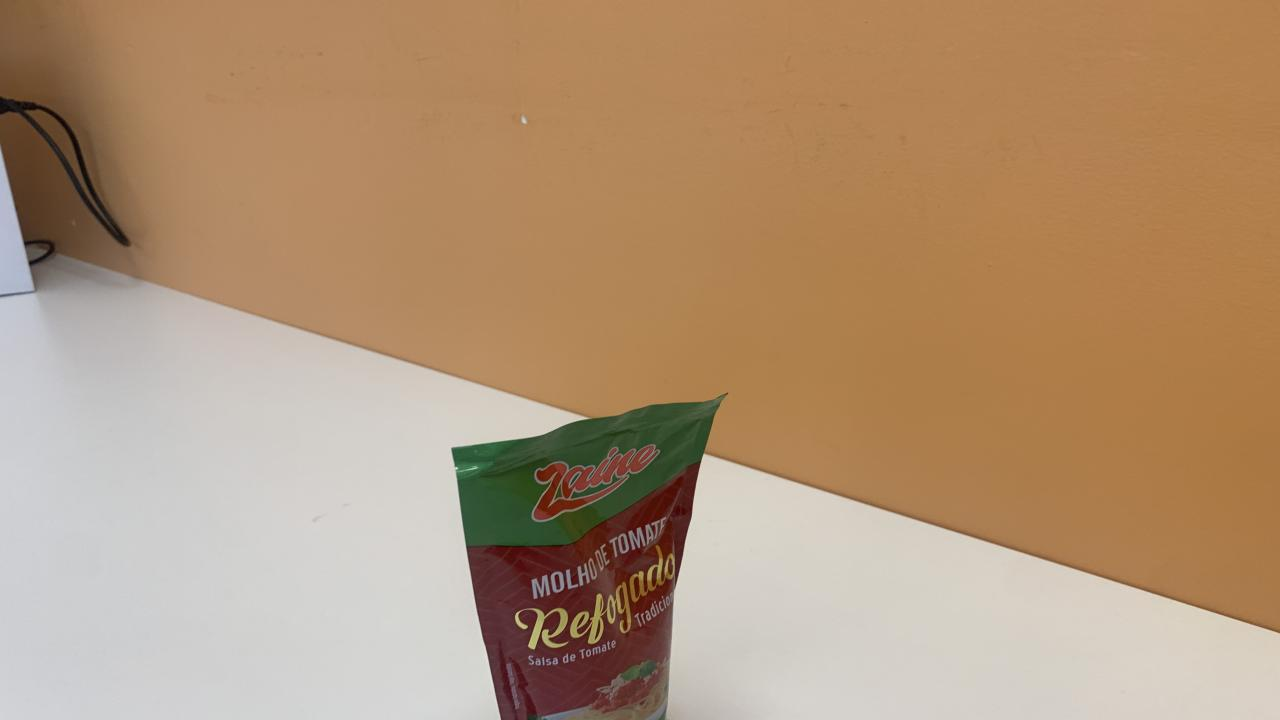Tomato_Sauce-Pantry_Items: (449, 398, 724, 720)
